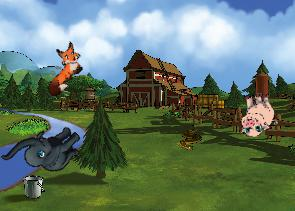elephant: (0, 105, 88, 194)
fox: (31, 38, 92, 99)
pig: (235, 91, 278, 137)
